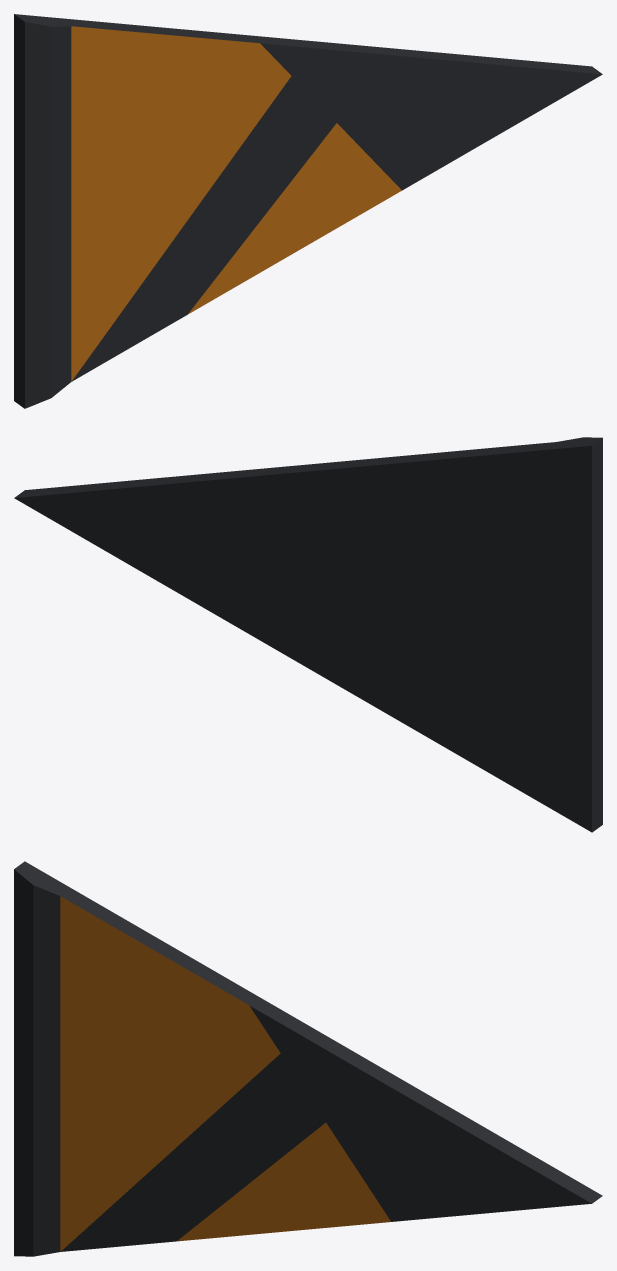
The model's file is SM_Prop_Triangle_Flag_03.obj.
3 renders of one model, top to bottom at view 1: azimuth 30°, elevation 25°; view 2: azimuth 150°, elevation 25°; view 3: azimuth 330°, elevation 25°, orthographic.
Visible parts, largest first — view 1: SM_Prop_Triangle_Flag_03_0; view 2: SM_Prop_Triangle_Flag_03_0; view 3: SM_Prop_Triangle_Flag_03_0.
Boxes of the visible parts, <box> form: SM_Prop_Triangle_Flag_03_0: <box>14,14,602,408</box>; SM_Prop_Triangle_Flag_03_0: <box>14,437,602,832</box>; SM_Prop_Triangle_Flag_03_0: <box>14,861,602,1256</box>.
Bounding box in the file's own units: 0.8237 × 0.5268 × 0.0356.
1 material, 1 textured.
